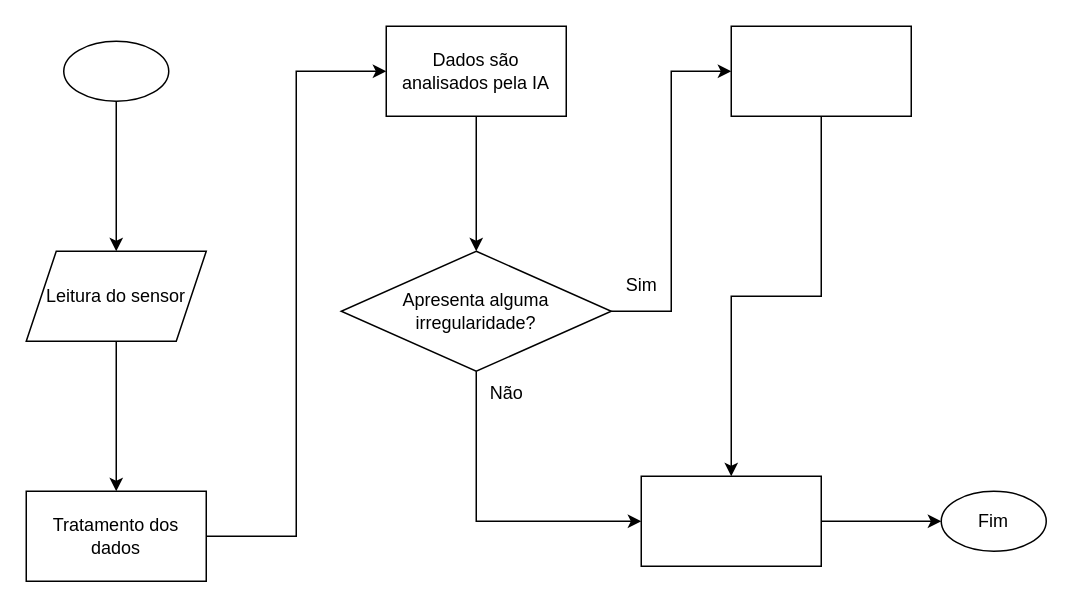
Some shapes in this 1073 by 608 pixel diagram are drawn without their labels. The centre of each missing label's shape, as x and y in pixels:
Apresenta os dados na interface: (730,520)
Avisa usuário: (820,70)
Início: (115,70)
